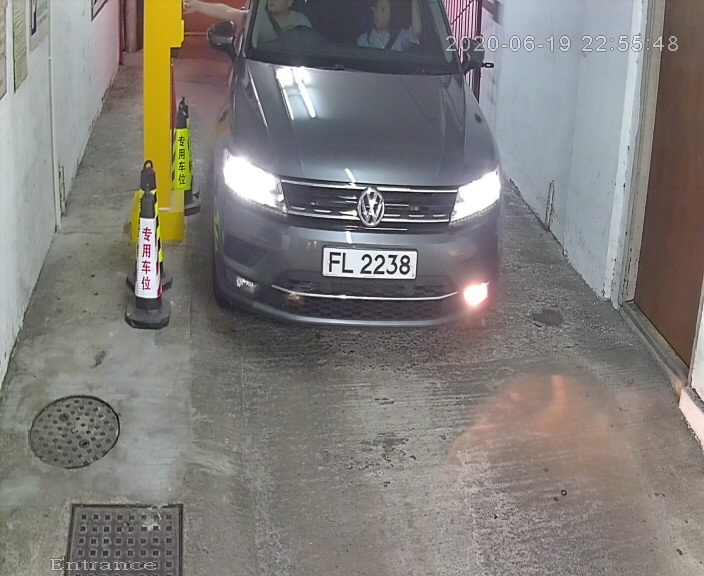privatecar: (163, 1, 531, 368)
